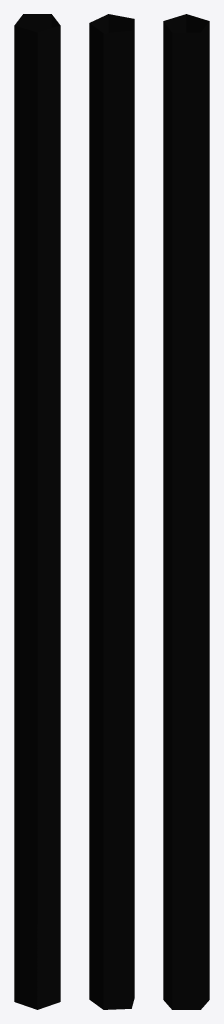
The model's file is space_SM_Prop_Detail_Wire_02.gltf.
3 renders of one model, left to right at view 1: azimuth 90°, elevation 25°; view 2: azimuth 210°, elevation 25°; view 3: azimuth 270°, elevation 25°, orthographic.
Parts seen in each view (by area): view 1: SM_Prop_Detail_Wire_02; view 2: SM_Prop_Detail_Wire_02; view 3: SM_Prop_Detail_Wire_02.
Part boxes in pixels (x1,y1,x2,y2): SM_Prop_Detail_Wire_02: (14,14,60,1009); SM_Prop_Detail_Wire_02: (89,14,134,1009); SM_Prop_Detail_Wire_02: (163,14,209,1009).
Bounding box in the file's own units: 0.0254 × 0.6193 × 0.0266.
Materials: 1 (1 with a texture image).
